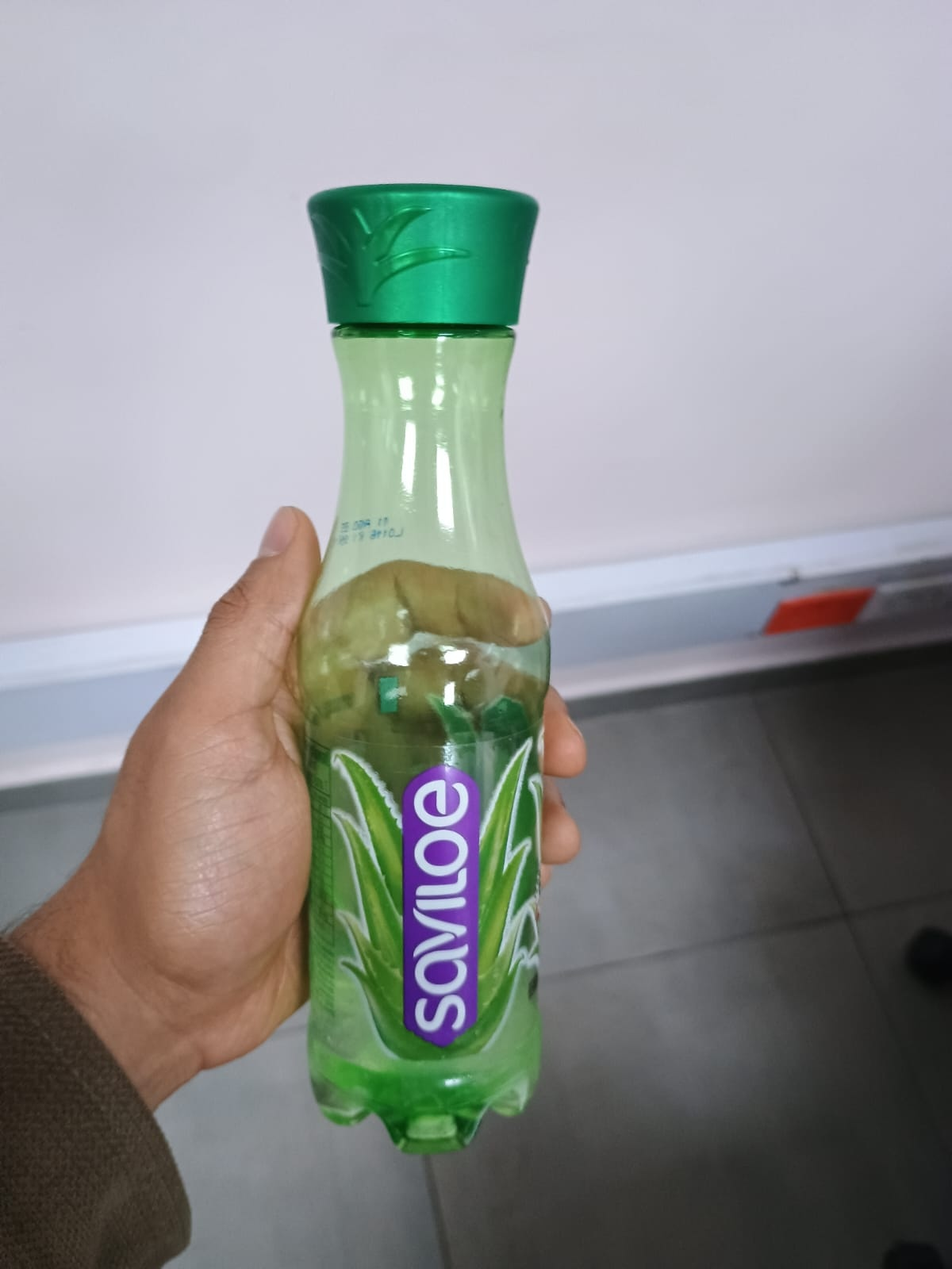Plastico: (294, 186, 551, 1154)
